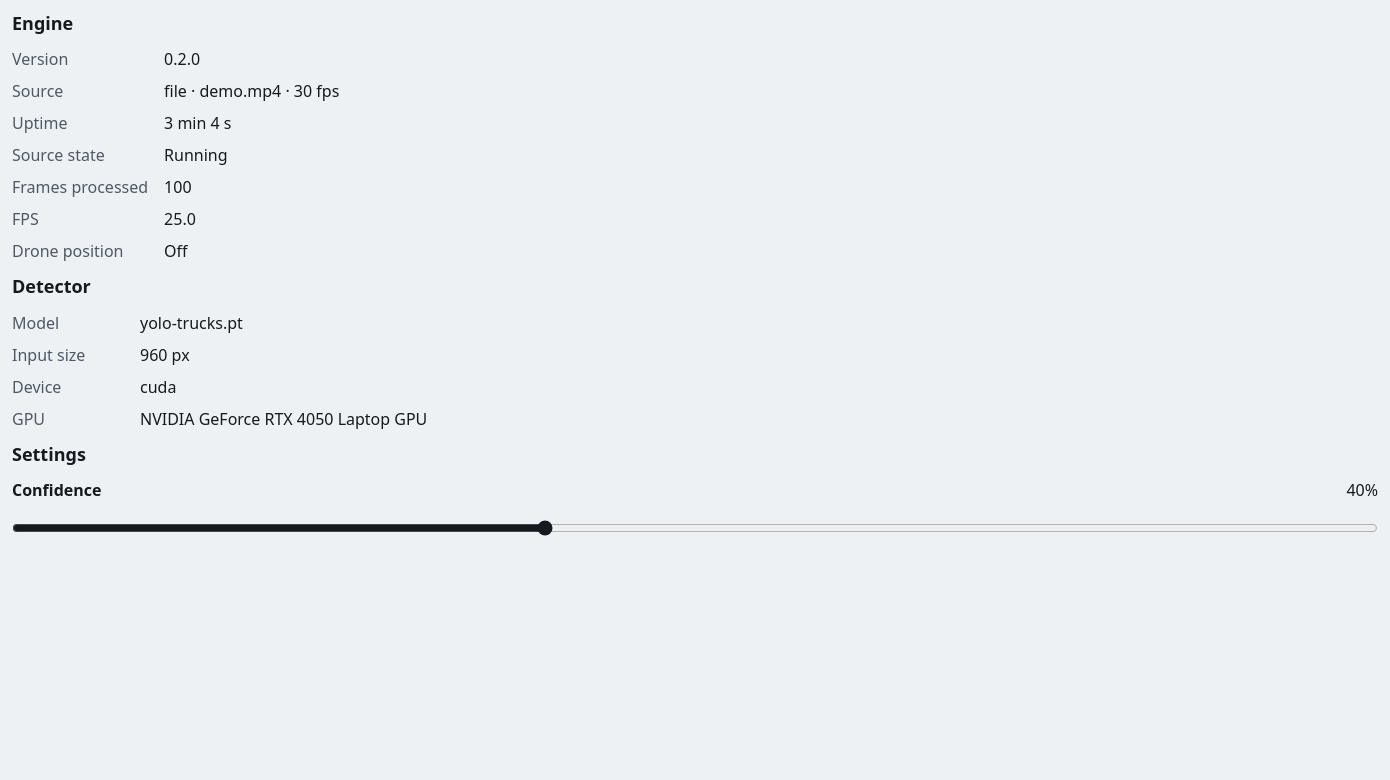
debounces confidence save
The image size is (1390, 780).
Set the slider labelled "Confidence" to "0.5" at (695, 528), box top-left (12, 506), bottom-right (1378, 550)
Wait 300 ms
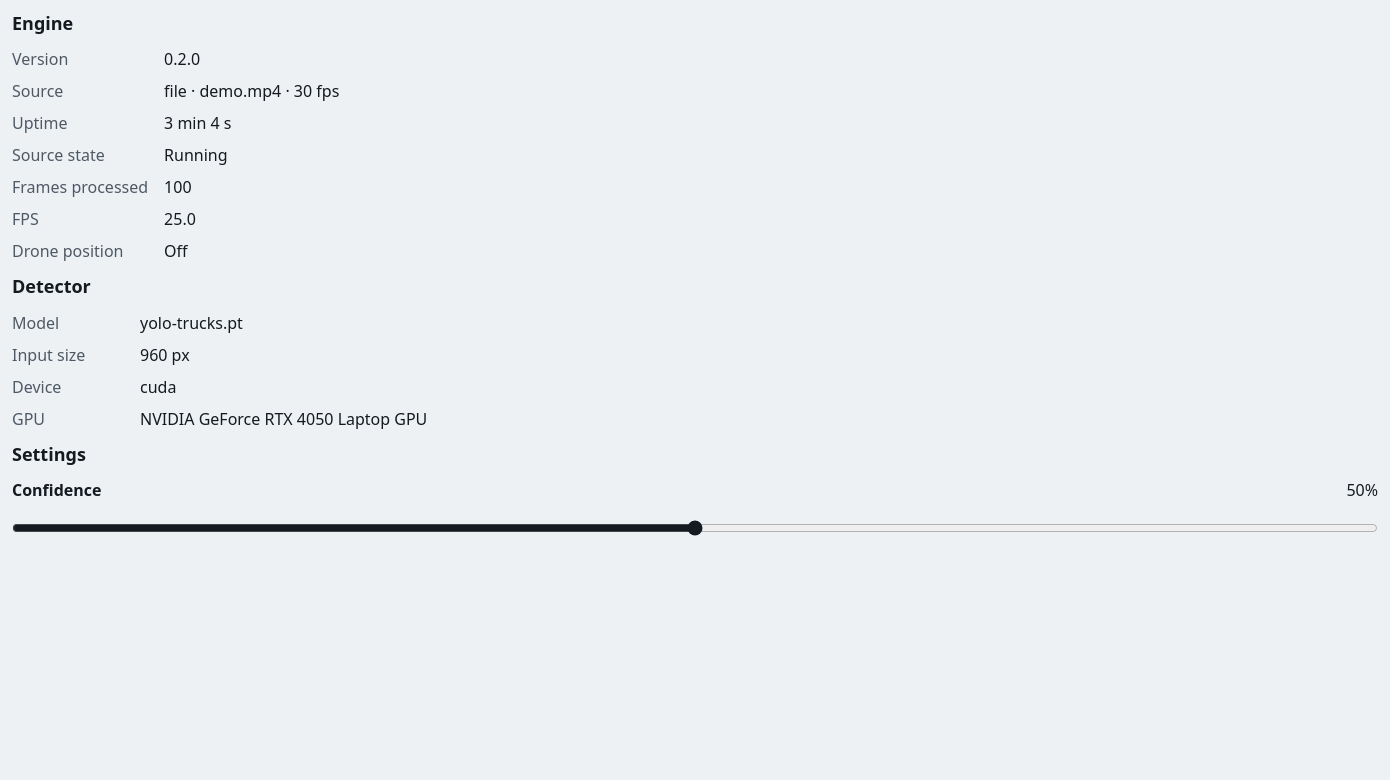
Set the slider labelled "Confidence" to "0.55" at (770, 528), box top-left (12, 506), bottom-right (1378, 550)
Wait 300 ms
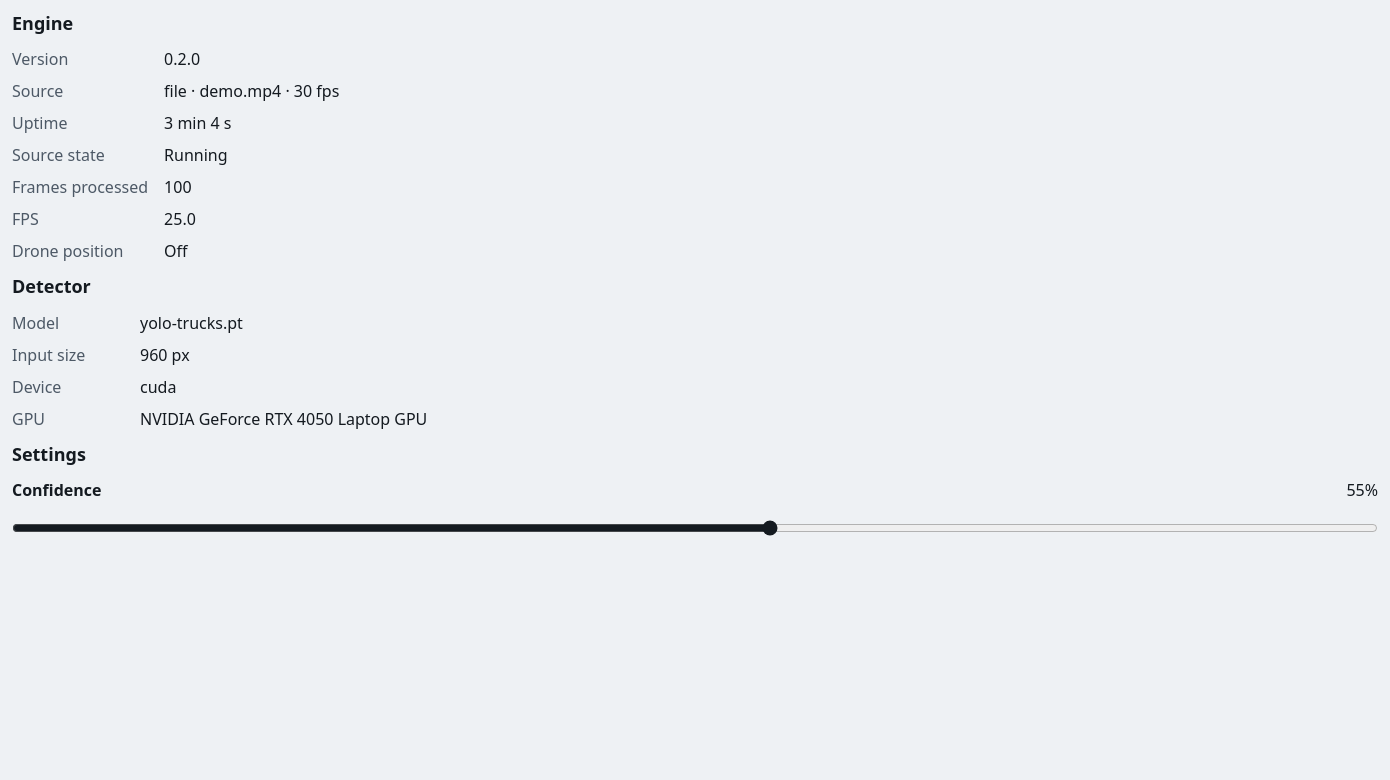
Set the slider labelled "Confidence" to "0.6" at (845, 528), box top-left (12, 506), bottom-right (1378, 550)
Wait 3400 ms
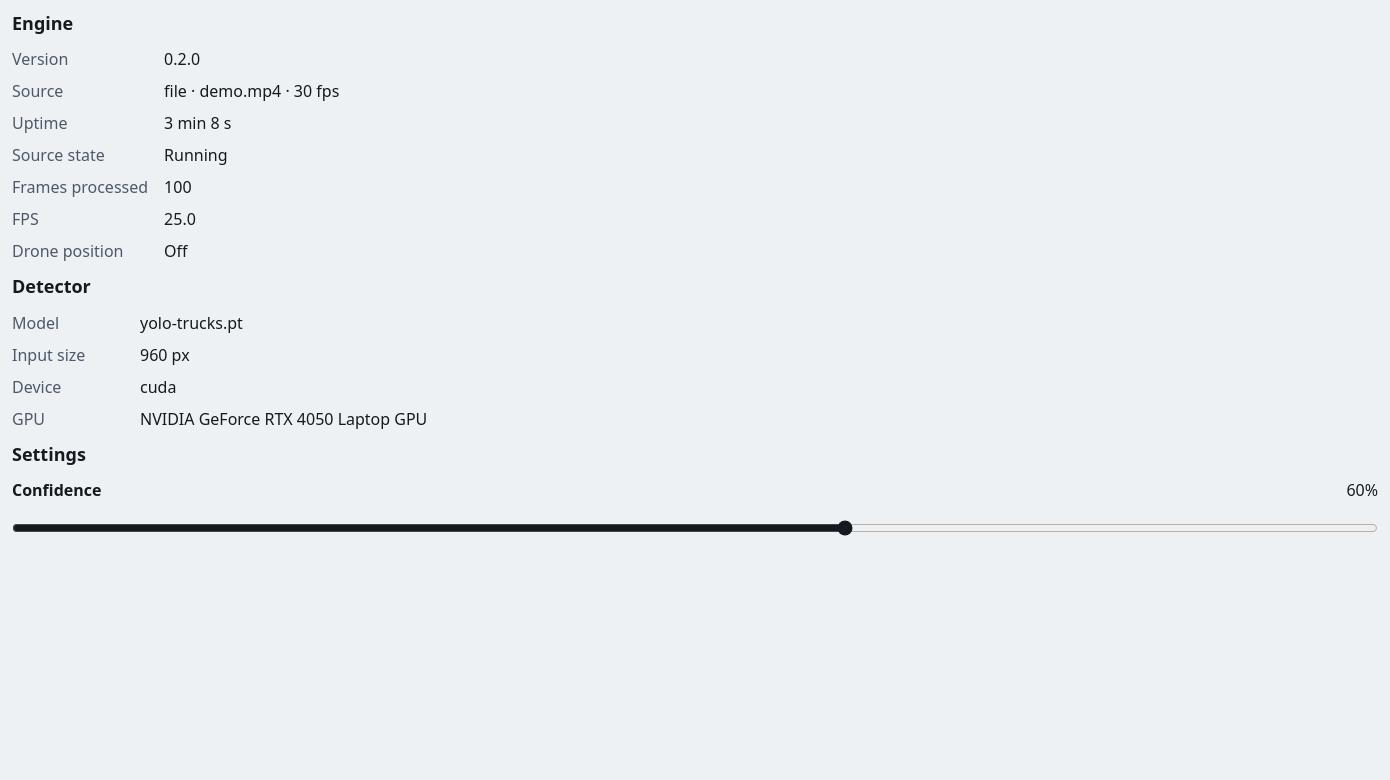
Result: the text "60%" is shown at top-left (1346, 478), bottom-right (1378, 502)
